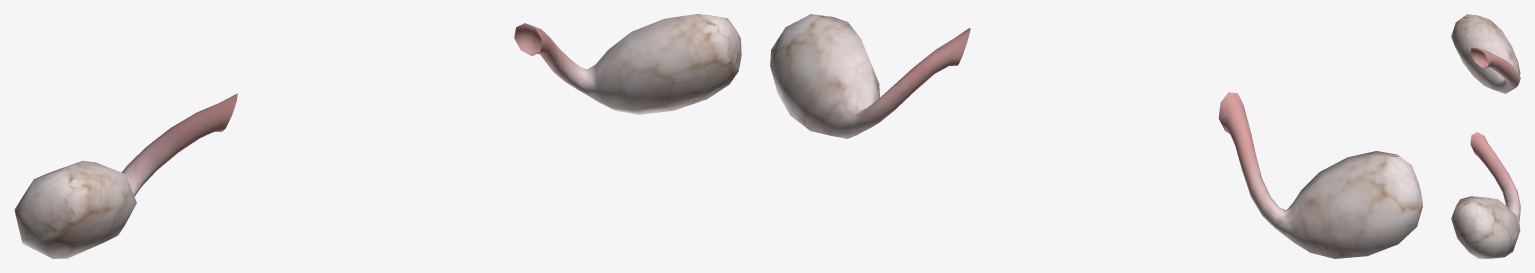
File: 女性_内分泌系统_卵巢.FBX
The picture shows the model from 3 angles, left to right: view 1: azimuth 30°, elevation 25°; view 2: azimuth 150°, elevation 25°; view 3: azimuth 270°, elevation 25°; orthographic projection. The views are drawn at different scales.
Visible parts, largest first — view 1: 女性_生殖系统_卵巢; view 2: 女性_生殖系统_卵巢; view 3: 女性_生殖系统_卵巢.
Part boxes in pixels (x1,y1,x2,y2): 女性_生殖系统_卵巢: [14, 14, 741, 258]; 女性_生殖系统_卵巢: [770, 14, 1422, 258]; 女性_生殖系统_卵巢: [1451, 14, 1520, 258].
Size of the model in its own units: 9.48 by 1.74 by 1.32.
